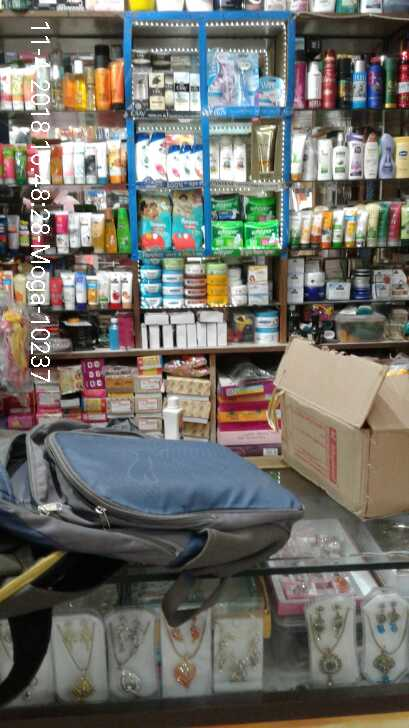venus: (209, 49, 235, 103), (238, 51, 256, 104), (260, 75, 284, 105)
